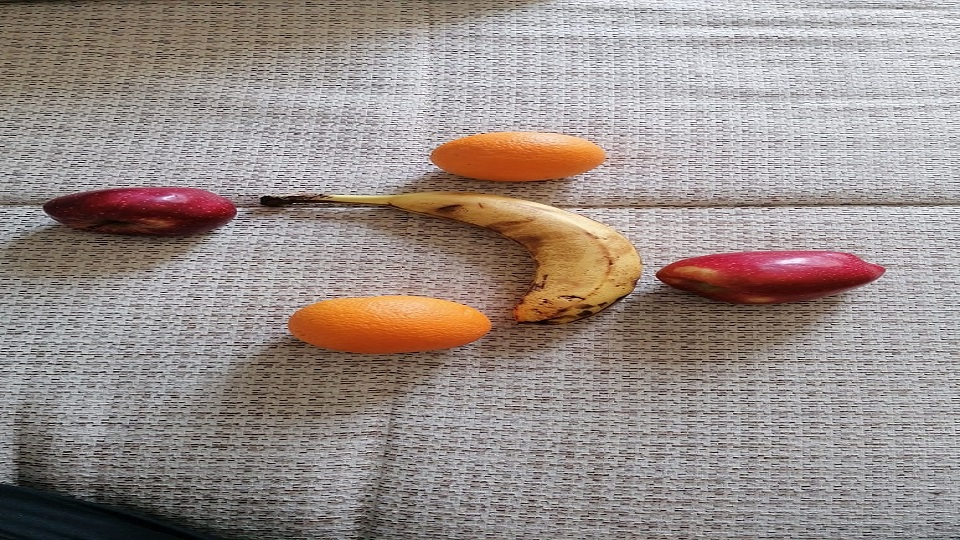elma: (652, 250, 887, 306), (42, 186, 238, 241)
muz: (303, 191, 642, 324)
portakal: (287, 294, 493, 356), (427, 129, 607, 183)
